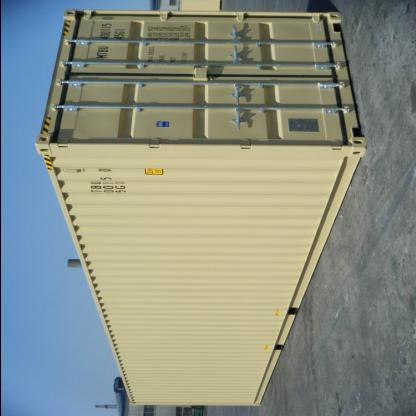Damage: (139, 25, 189, 46)
